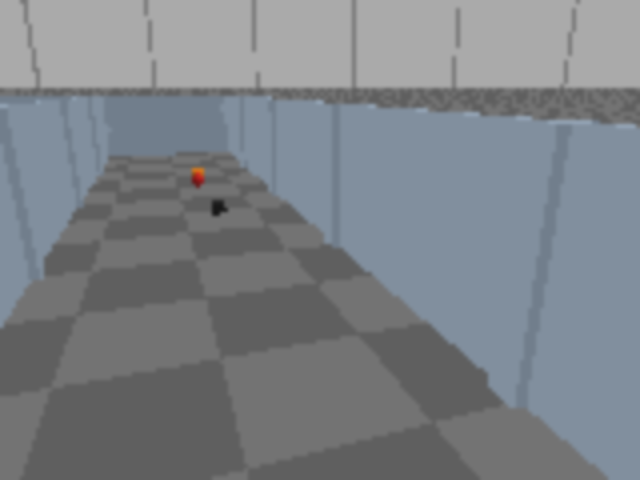puck: (189, 172, 207, 188)
